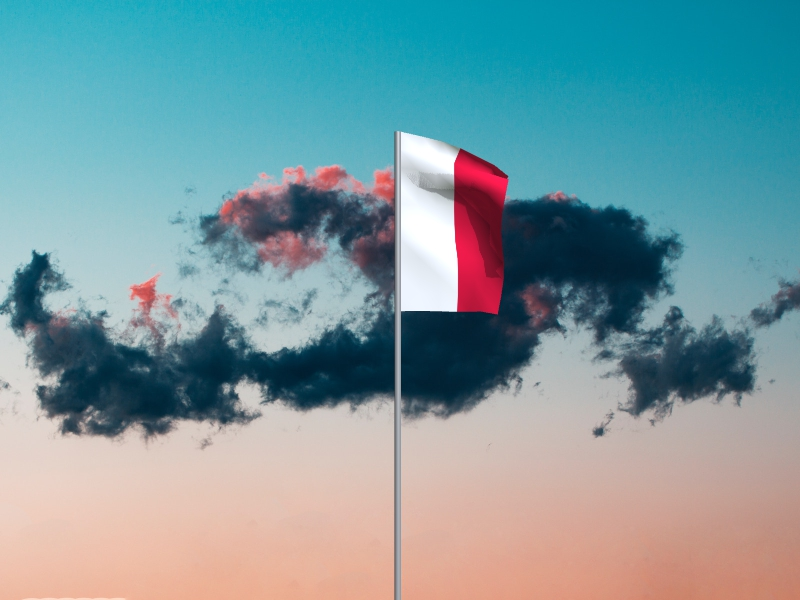pl: (401, 133, 510, 316)
